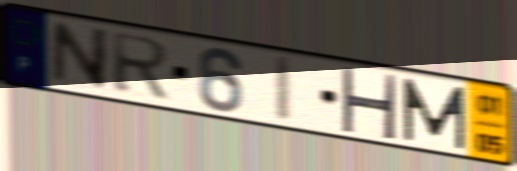6: (195, 44, 245, 114)
H: (338, 64, 399, 143)
I: (272, 53, 297, 126)
M: (399, 75, 469, 152)
N: (49, 20, 112, 93)
R: (108, 29, 174, 102)
